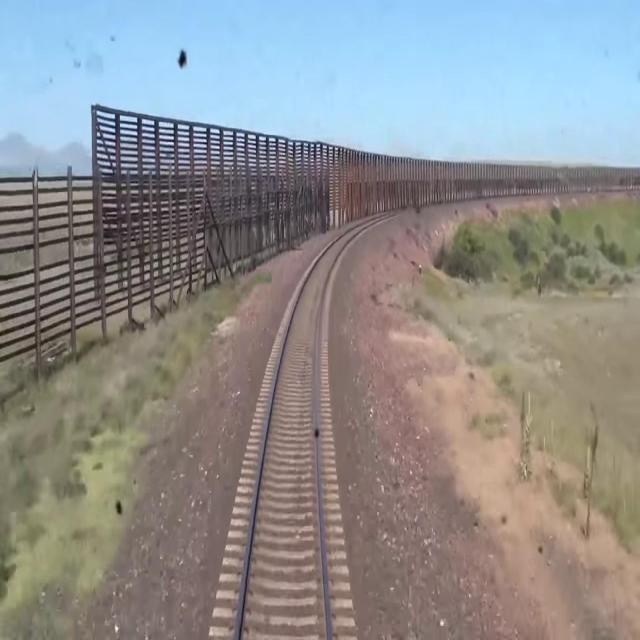rail-track: (238, 212, 400, 639)
